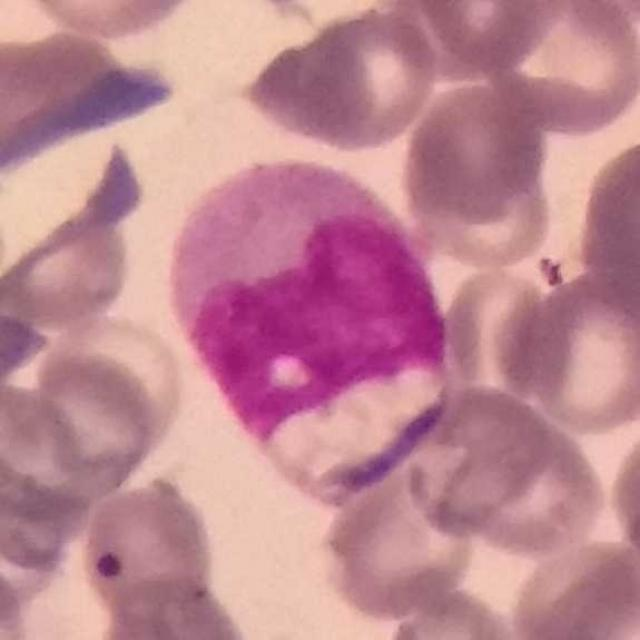Monocyte: (158, 148, 456, 506)
Platelets: (84, 544, 129, 587)
RBC: (398, 381, 606, 555), (0, 26, 181, 199), (241, 3, 444, 156), (14, 314, 182, 497), (1, 137, 149, 340), (315, 458, 480, 624), (395, 75, 553, 234), (497, 263, 640, 435), (479, 0, 640, 137), (89, 478, 232, 625), (0, 378, 100, 525), (506, 535, 640, 640), (402, 0, 564, 78), (573, 131, 640, 303), (92, 571, 257, 640), (376, 584, 529, 640), (10, 0, 208, 42), (605, 414, 640, 580), (547, 0, 640, 33), (0, 553, 33, 640)
